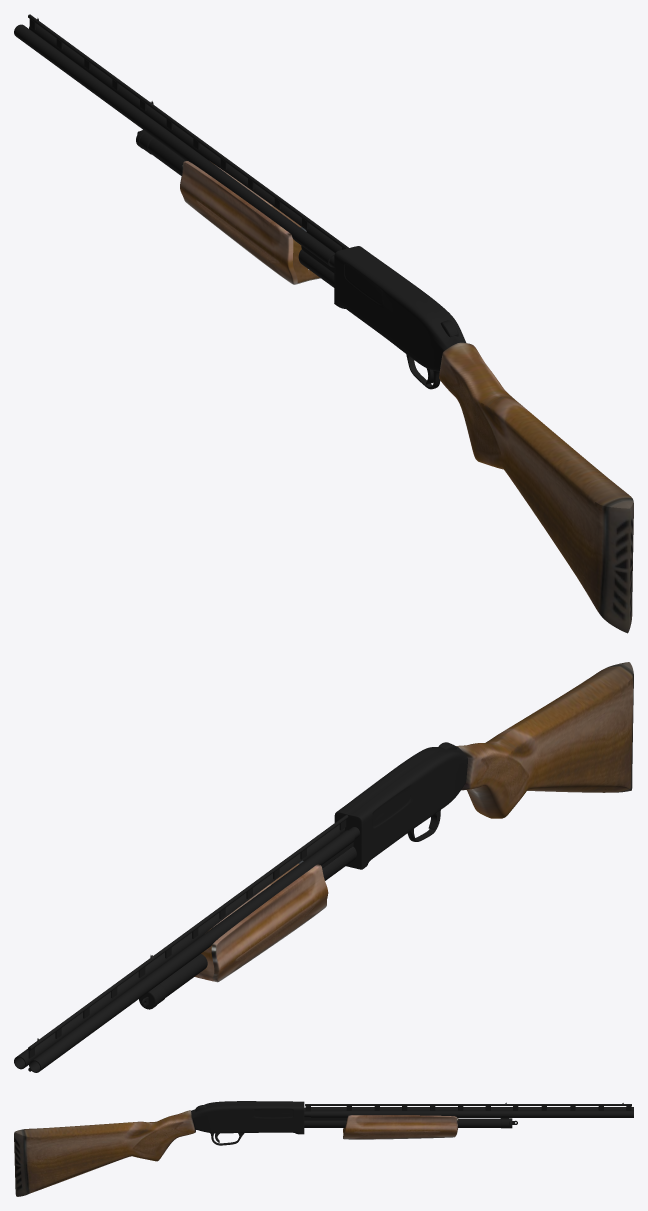
The model's file is shotgun.fbx.
The picture shows the model from 3 angles, top to bottom: view 1: azimuth 30°, elevation 25°; view 2: azimuth 150°, elevation 25°; view 3: azimuth 270°, elevation 25°; orthographic projection. The views are drawn at different scales.
Visible parts, largest first — view 1: 3DSMesh_28_28, 3DSMesh_27_27, 3DSMesh_24_24, 3DSMesh_25_25, 3DSMesh_22_22, 3DSMesh_21_21; view 2: 3DSMesh_28_28, 3DSMesh_24_24, 3DSMesh_27_27, 3DSMesh_25_25, 3DSMesh_22_22, 3DSMesh_21_21; view 3: 3DSMesh_28_28, 3DSMesh_27_27, 3DSMesh_24_24, 3DSMesh_25_25, 3DSMesh_21_21, 3DSMesh_22_22.
Part boxes in pixels (left/top/right/bottom): 3DSMesh_28_28: left=439, top=342, right=633, bottom=633; 3DSMesh_27_27: left=334, top=246, right=466, bottom=371; 3DSMesh_24_24: left=14, top=24, right=341, bottom=267; 3DSMesh_25_25: left=180, top=161, right=320, bottom=284; 3DSMesh_22_22: left=28, top=14, right=348, bottom=248; 3DSMesh_21_21: left=148, top=138, right=334, bottom=287; 3DSMesh_28_28: left=456, top=662, right=633, bottom=818; 3DSMesh_24_24: left=14, top=824, right=359, bottom=1072; 3DSMesh_27_27: left=334, top=746, right=467, bottom=869; 3DSMesh_25_25: left=194, top=860, right=328, bottom=982; 3DSMesh_22_22: left=28, top=815, right=348, bottom=1050; 3DSMesh_21_21: left=159, top=846, right=356, bottom=997; 3DSMesh_28_28: left=14, top=1110, right=195, bottom=1196; 3DSMesh_27_27: left=191, top=1101, right=304, bottom=1134; 3DSMesh_24_24: left=304, top=1107, right=633, bottom=1117; 3DSMesh_25_25: left=343, top=1115, right=458, bottom=1139; 3DSMesh_21_21: left=304, top=1118, right=500, bottom=1127; 3DSMesh_22_22: left=305, top=1104, right=631, bottom=1105.
Size of the model in its own units: 0.3678 by 1.63 by 9.68.
Materials: 5 (1 with a texture image).
